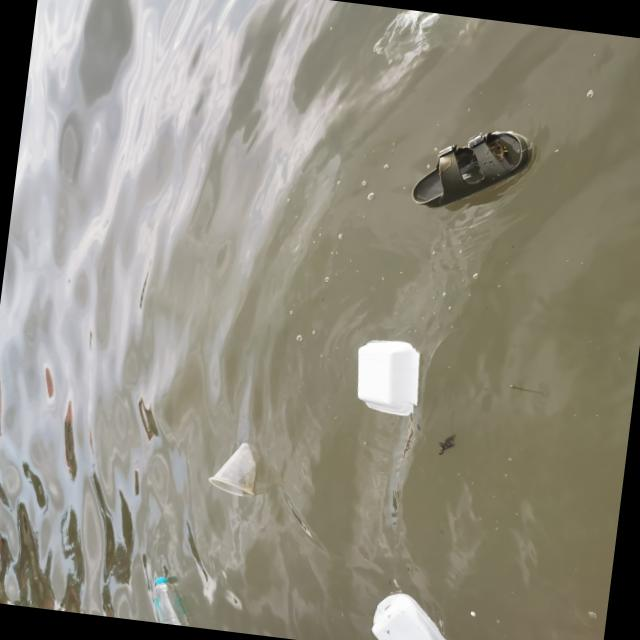foam: (345, 334, 434, 421), (367, 584, 463, 640)
plastic bottle: (143, 568, 208, 629)
